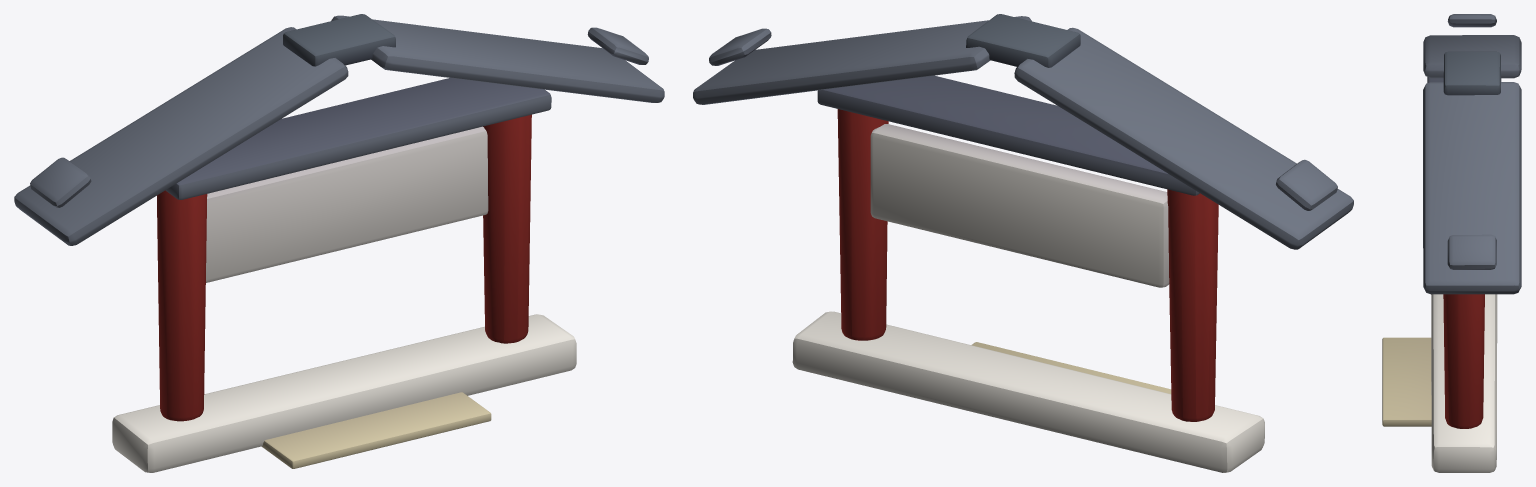
The picture shows the model from 3 angles, left to right: view 1: azimuth 30°, elevation 25°; view 2: azimuth 150°, elevation 25°; view 3: azimuth 270°, elevation 25°; orthographic projection. The views are drawn at different scales.
Parts seen in each view (by area): view 1: gate_2f087745; view 2: gate_2f087745; view 3: gate_2f087745.
Part boxes in pixels (bbox=[...]): gate_2f087745: bbox=[14, 14, 664, 472]; gate_2f087745: bbox=[693, 14, 1353, 472]; gate_2f087745: bbox=[1382, 14, 1521, 472].
Size of the model in its own units: 7.2 by 4.29 by 1.7.
